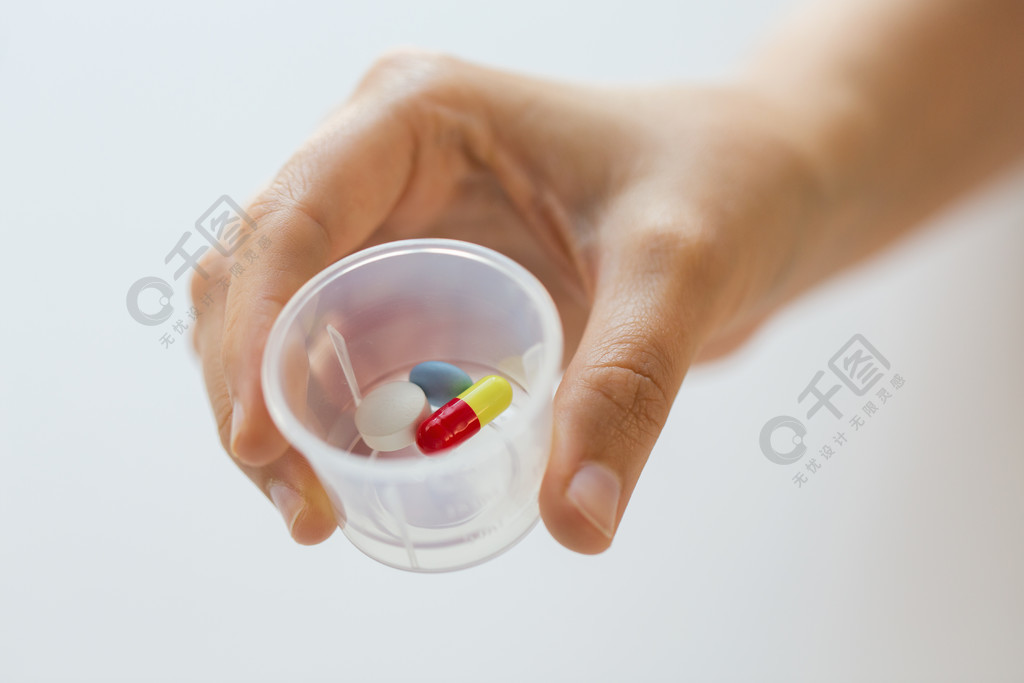no-phone: (184, 42, 848, 575)
